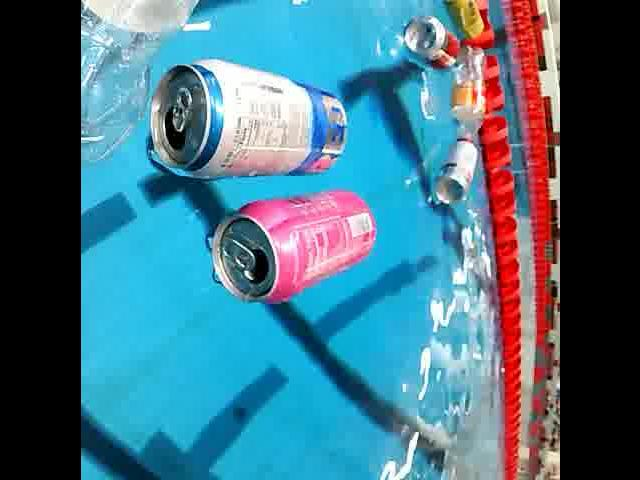Bottle: (80, 0, 263, 172), (444, 40, 490, 154)
Can: (144, 52, 352, 184), (205, 187, 381, 309), (396, 12, 462, 72), (428, 134, 478, 210), (442, 0, 484, 42)
